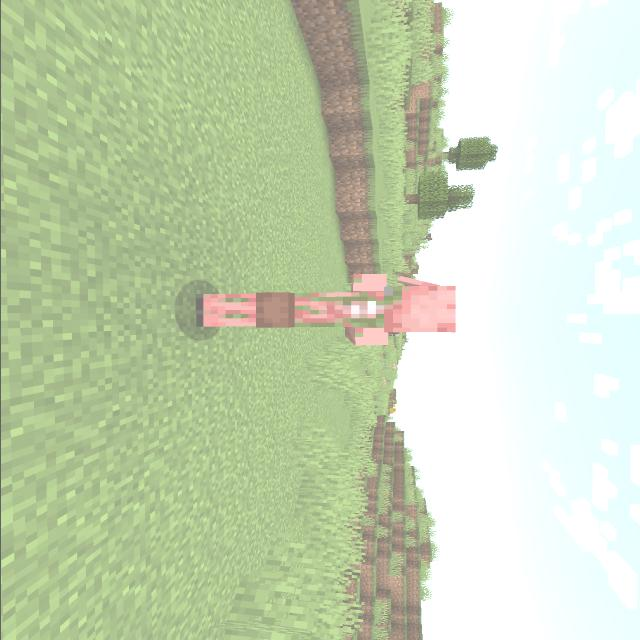Zombified Piglin: (175, 267, 469, 352)
